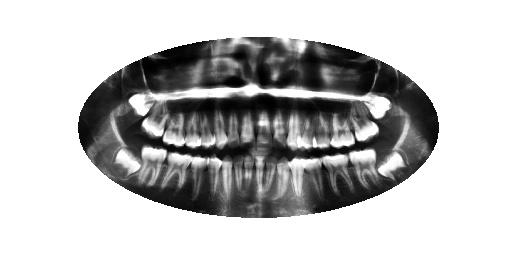Cavity: (270, 111, 287, 150), (240, 113, 255, 150), (227, 109, 240, 151)
Fillings: (330, 113, 356, 148), (304, 157, 324, 199), (288, 156, 304, 196), (287, 110, 302, 151), (313, 114, 330, 149)
Impacted Tooth: (377, 151, 413, 182), (112, 146, 144, 180)
